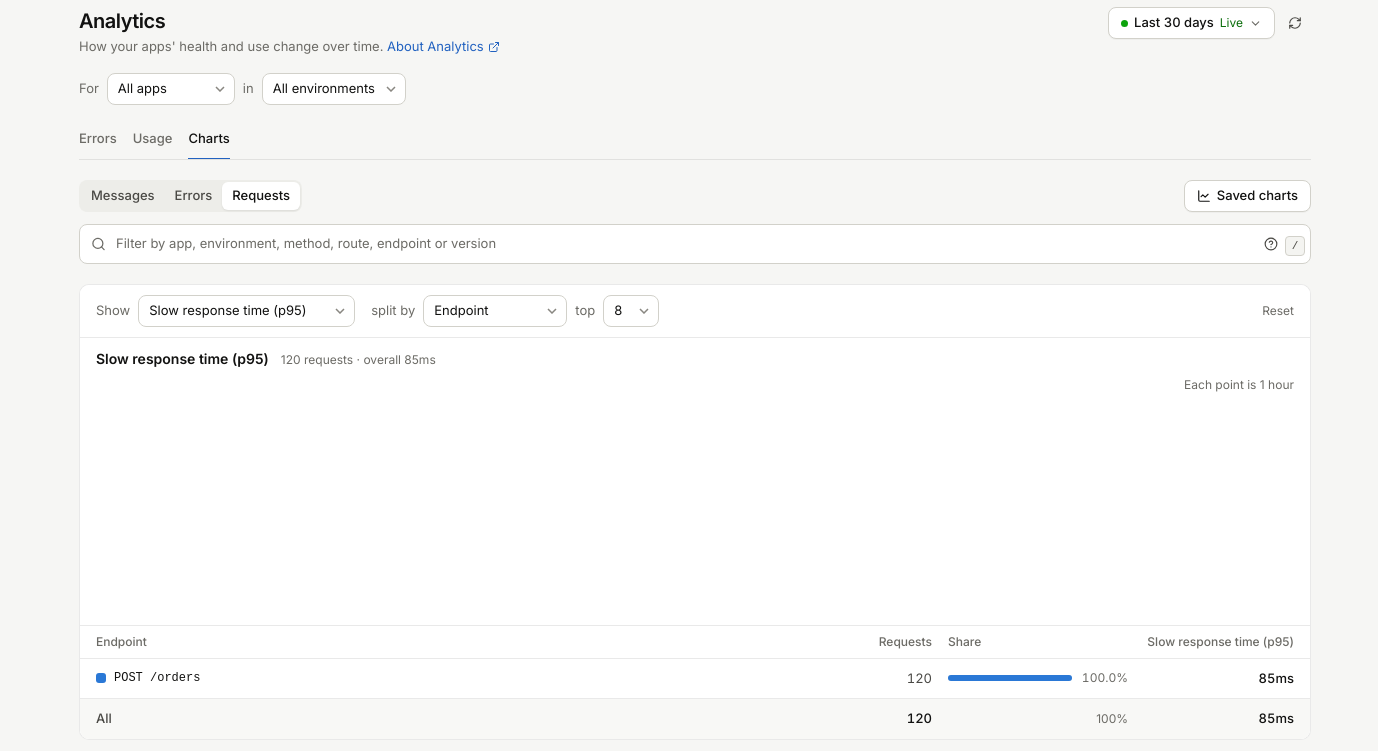
Test: Analytics › charts requests from the URL and switches what it charts
The width and height of the screenshot is (1378, 751).
Click the radio button labelled "Errors".
click(193, 196)  # box [165, 182, 222, 210]
(page scrolled)
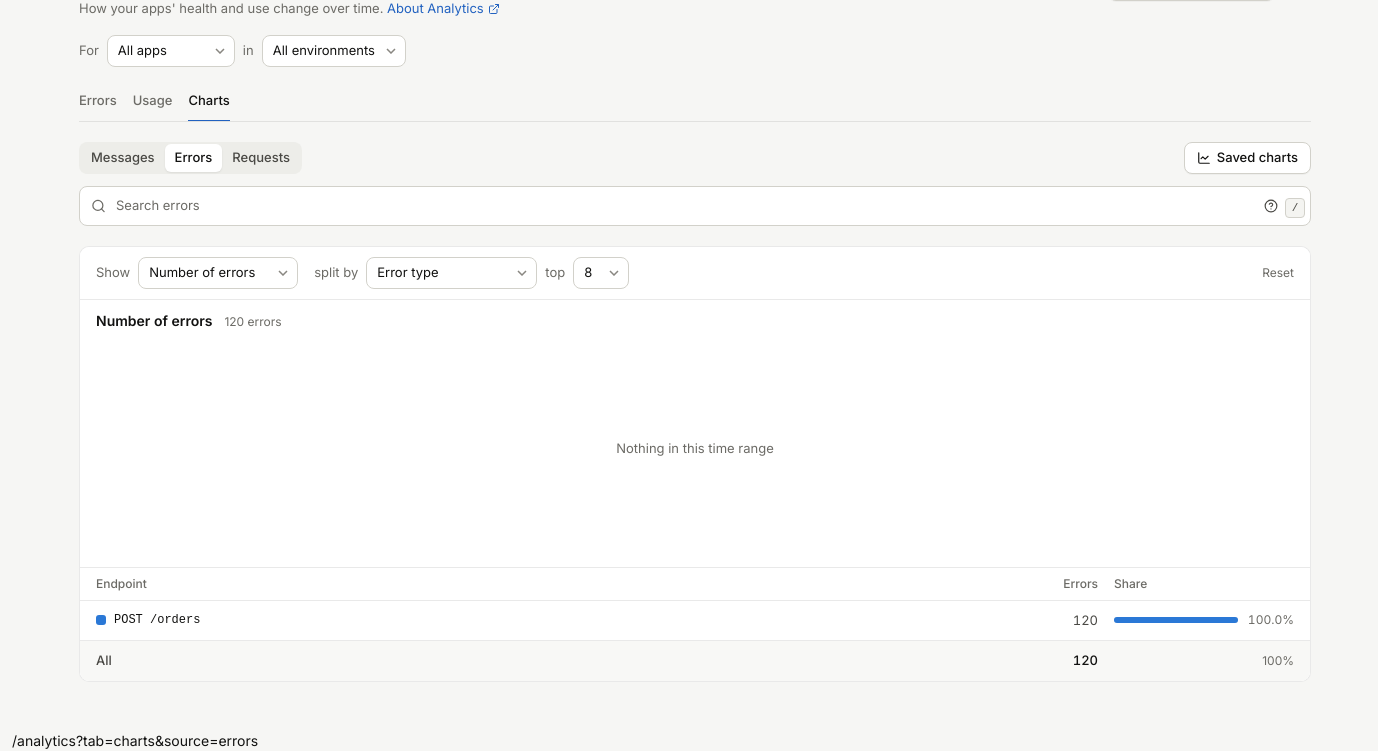
expect the text with test id "where" shows "source=errors": met, box [12, 732, 258, 749]
